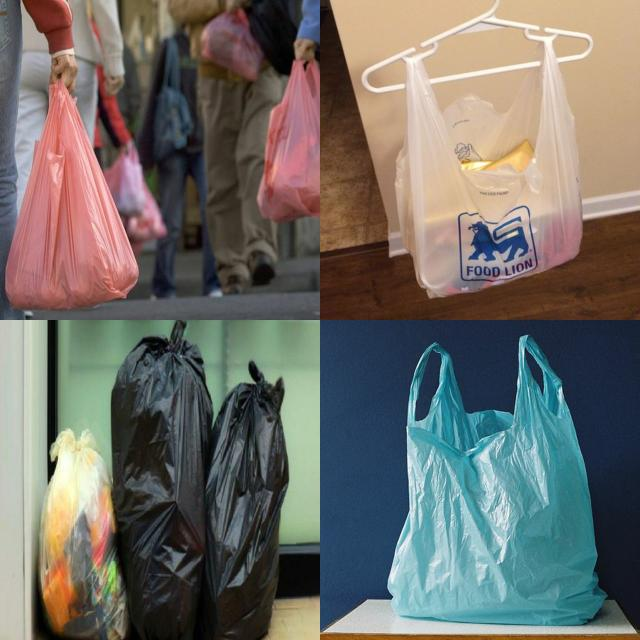Single-layer Plastic: (388, 335, 605, 625), (396, 41, 582, 296), (111, 321, 212, 640), (6, 81, 139, 310), (199, 361, 289, 640), (40, 429, 129, 640), (258, 60, 320, 222)
